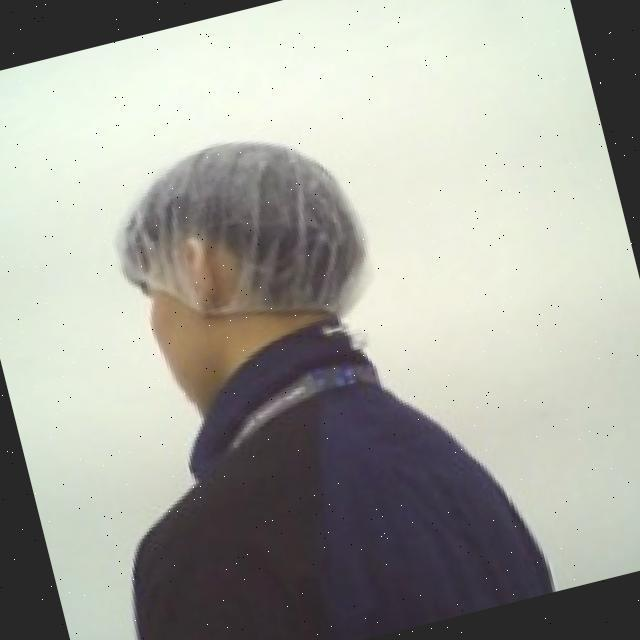gloves: (92, 107, 389, 377)
